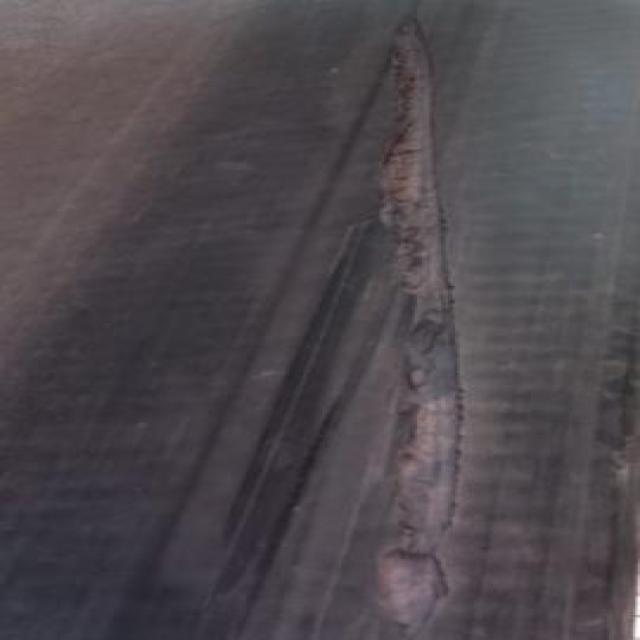Tear: (367, 12, 466, 640)
